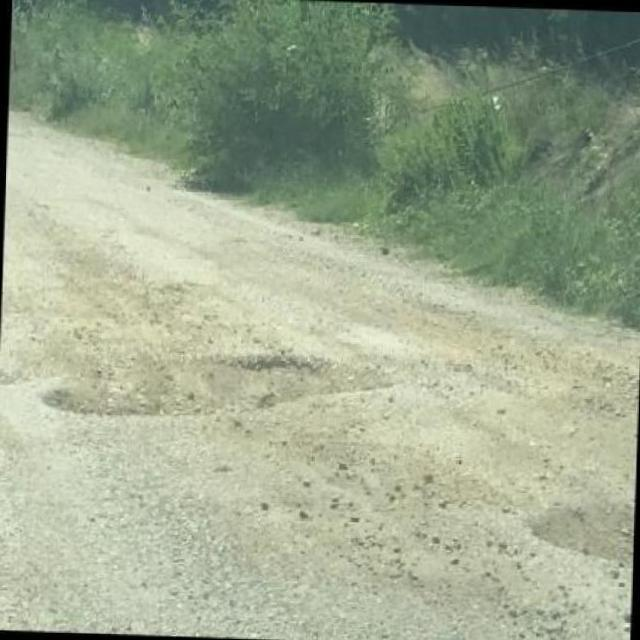Pothole: (40, 351, 382, 416), (526, 502, 634, 564)
